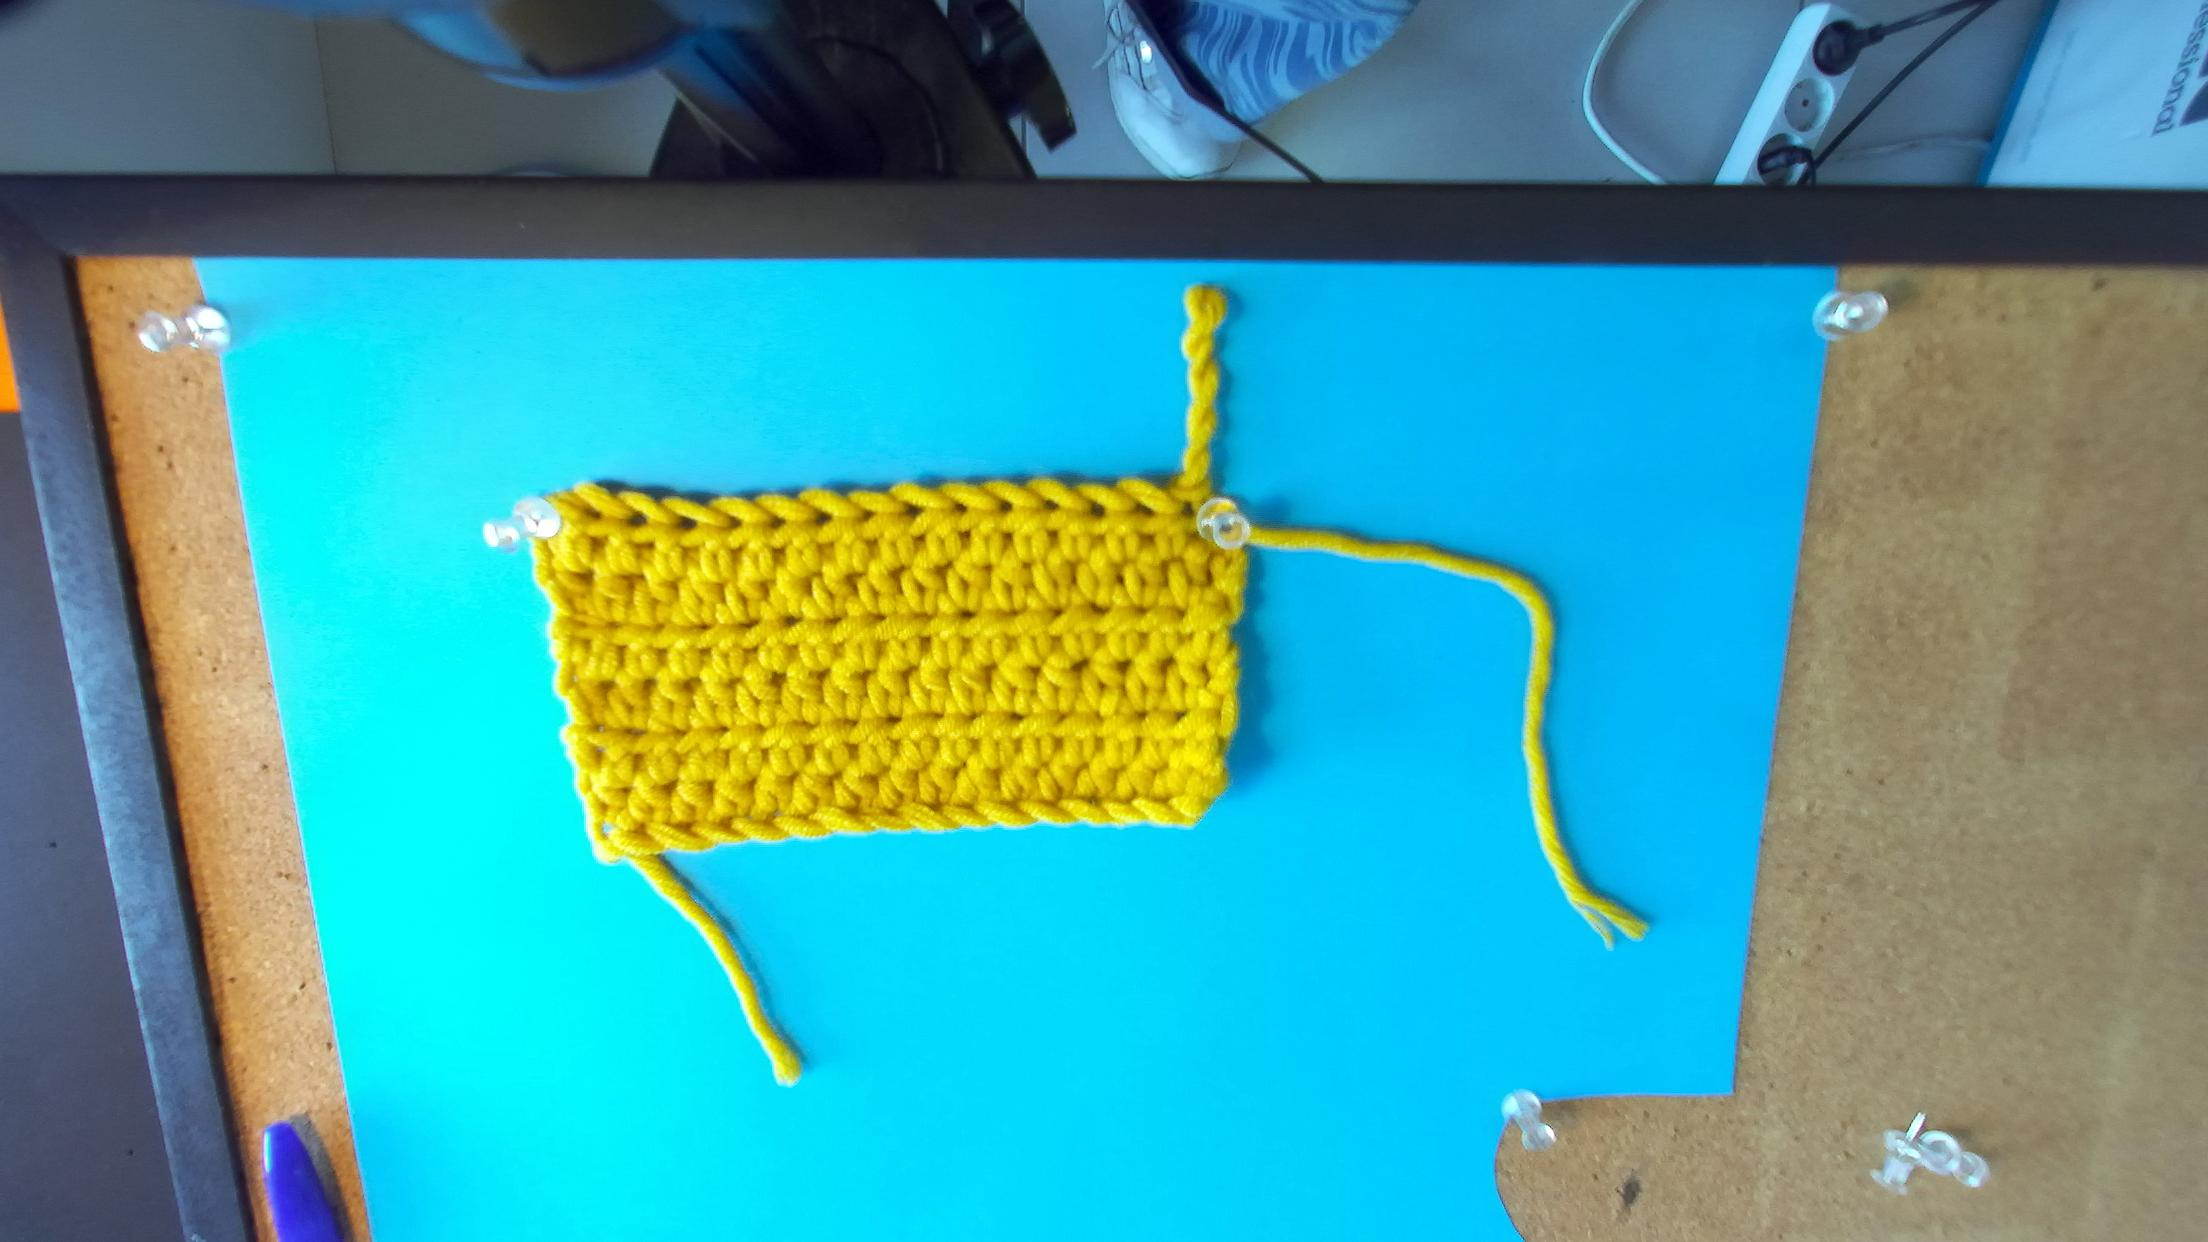hole: (1130, 500, 1157, 516), (901, 505, 927, 520), (626, 510, 649, 526), (813, 508, 834, 525), (676, 516, 699, 531), (1180, 497, 1195, 519), (767, 514, 789, 528), (584, 502, 601, 519), (725, 516, 743, 531), (1089, 500, 1106, 516), (860, 510, 878, 523), (998, 497, 1015, 511), (952, 500, 969, 513), (1043, 497, 1059, 510)
swatch: (481, 472, 1253, 896)
